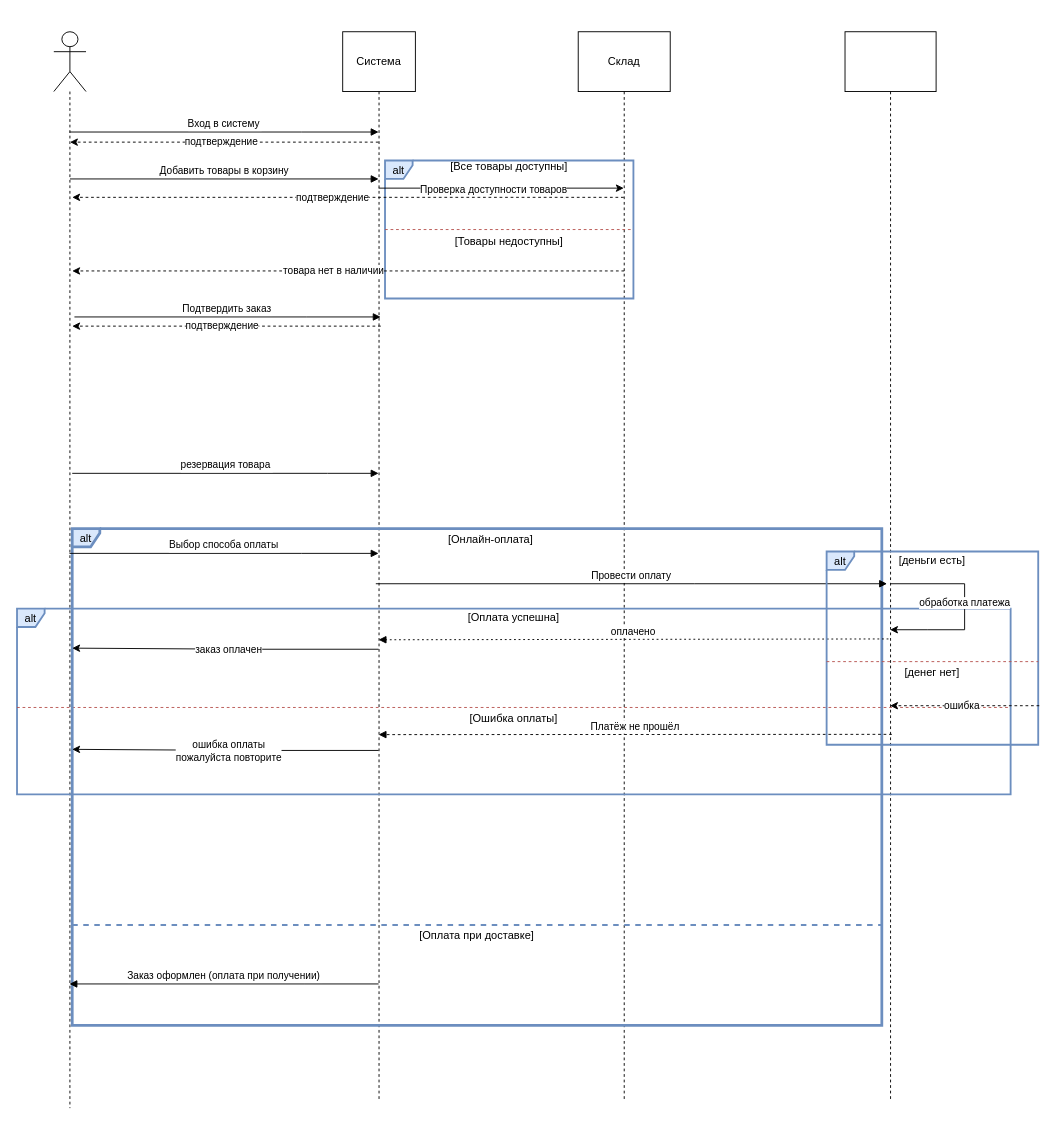
Image size: 1063x1124. Some labels were removed from this diagram. Here are the shapes that lost their labels. From the top down, the box of each, then its label:
(53, 31, 86, 1108): Пользователь
(844, 31, 936, 1099): Платежный Шлюз
